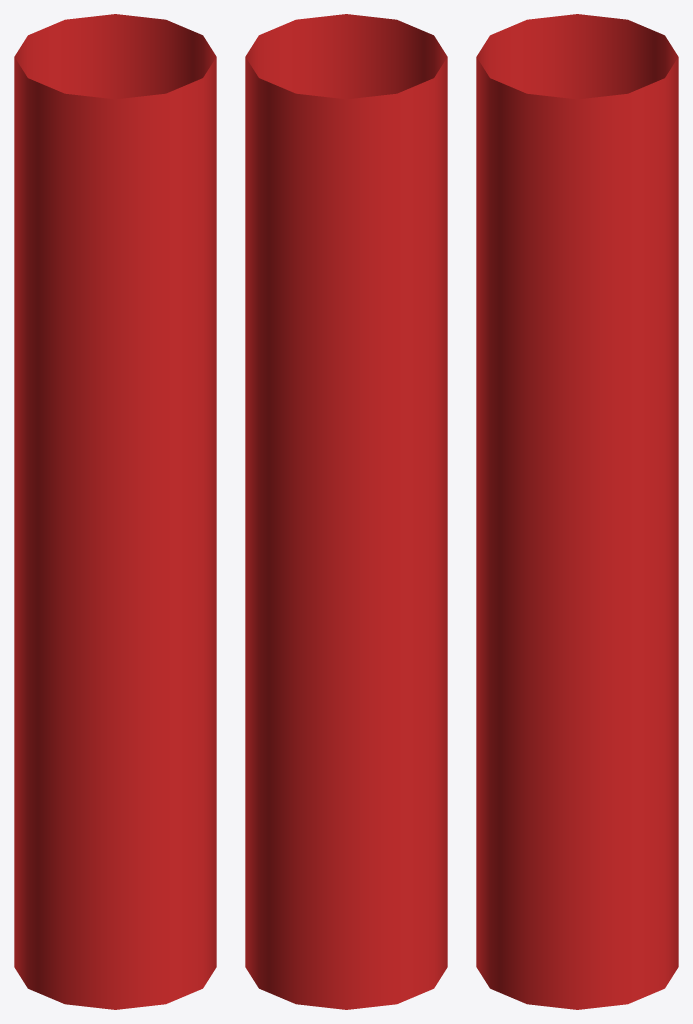
Rendered from ShaderCristal.fbx.
3 renders of one model, left to right at view 1: azimuth 30°, elevation 25°; view 2: azimuth 150°, elevation 25°; view 3: azimuth 270°, elevation 25°, orthographic.
Parts seen in each view (by area): view 1: ShaderCristal; view 2: ShaderCristal; view 3: ShaderCristal.
Boxes of the visible parts, x1=… form: ShaderCristal: x1=14, y1=14, x2=216, y2=1009; ShaderCristal: x1=245, y1=14, x2=447, y2=1009; ShaderCristal: x1=476, y1=14, x2=678, y2=1009.
Size of the model in its own units: 90.92 by 452 by 90.81.
